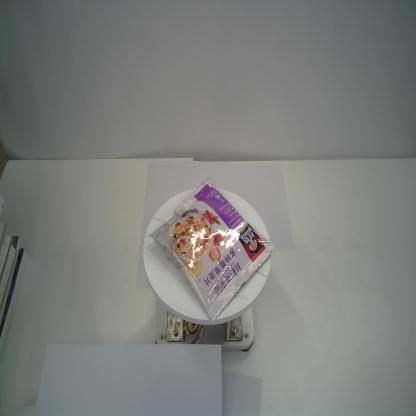Instant Drink: (148, 176, 275, 323)
